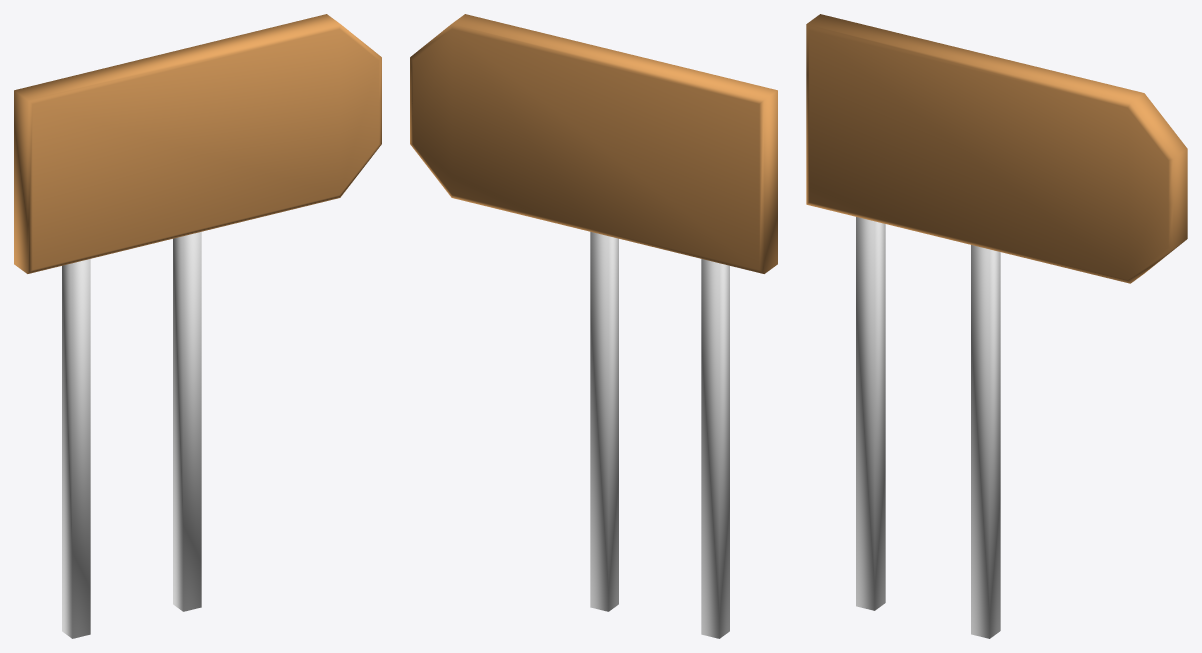
File: 4Th_Wall_Sign.fbx
The picture shows the model from 3 angles, left to right: view 1: azimuth 30°, elevation 25°; view 2: azimuth 150°, elevation 25°; view 3: azimuth 330°, elevation 25°; orthographic projection. The views are drawn at different scales.
Visible parts, largest first — view 1: polySurface193; view 2: polySurface193; view 3: polySurface193.
Boxes of the visible parts, x1,y1,x2,y2 form: polySurface193: [14, 14, 381, 638]; polySurface193: [410, 14, 777, 638]; polySurface193: [806, 14, 1187, 638].
Bounding box in the file's own units: 2.04 × 3.04 × 0.1569.
